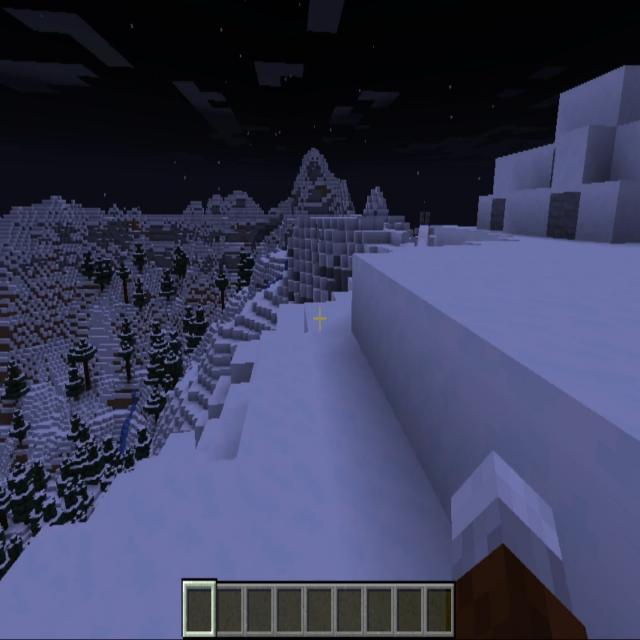Goat: (413, 207, 436, 257), (313, 225, 327, 243)
